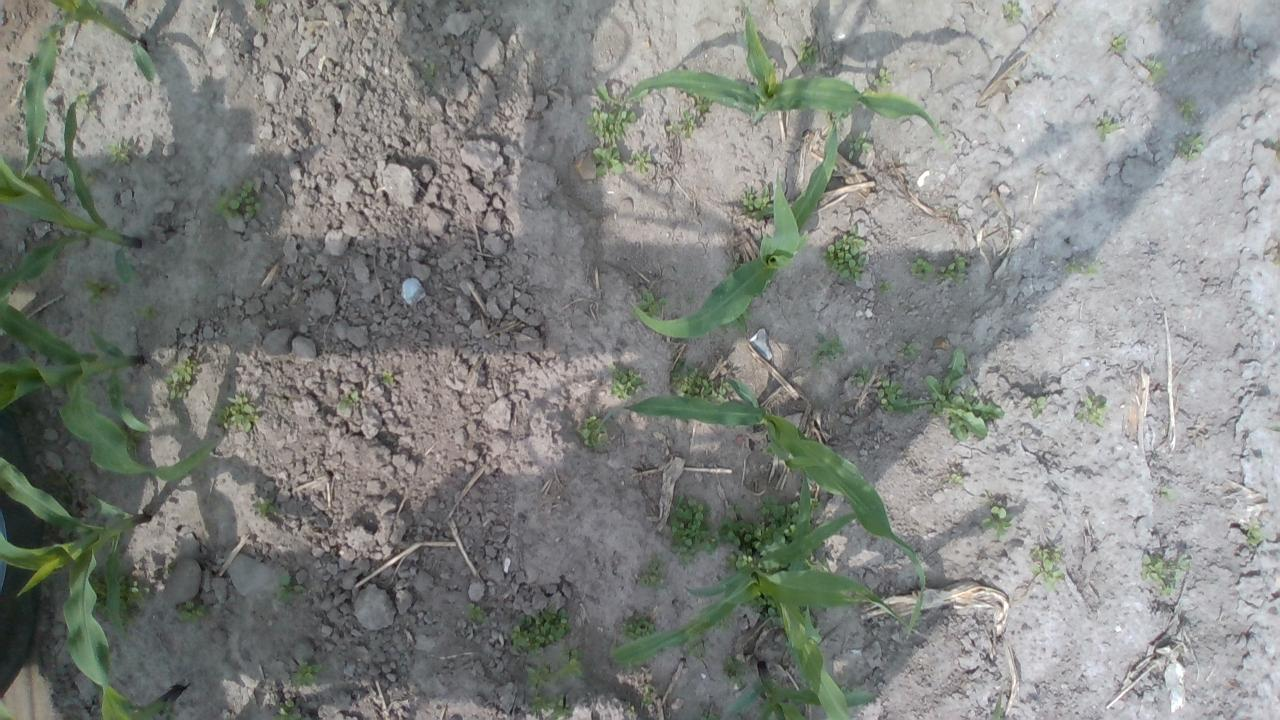Maize: (620, 376, 928, 642), (608, 462, 935, 668), (610, 2, 946, 154), (628, 105, 840, 340), (0, 300, 218, 483), (0, 458, 155, 693), (0, 90, 144, 314), (19, 1, 158, 183), (720, 659, 880, 720), (99, 676, 192, 714)
Weeds: (900, 344, 1007, 444), (719, 490, 828, 577), (589, 82, 636, 178), (663, 494, 721, 567), (514, 652, 586, 710), (664, 357, 740, 408), (508, 604, 570, 654), (826, 224, 872, 283), (847, 366, 898, 418), (1142, 550, 1192, 596), (101, 583, 150, 629), (209, 180, 259, 222), (212, 392, 258, 434), (1030, 541, 1065, 588), (632, 552, 668, 594), (614, 619, 660, 650), (574, 414, 610, 452), (607, 364, 645, 400), (633, 286, 671, 322), (739, 188, 780, 221), (163, 360, 194, 402), (1071, 392, 1107, 428), (274, 570, 308, 605), (982, 502, 1014, 538), (936, 252, 968, 288), (809, 334, 846, 364), (168, 601, 204, 628), (844, 130, 872, 159), (1173, 95, 1200, 124), (667, 110, 696, 136), (77, 282, 106, 308), (1140, 55, 1166, 83), (292, 662, 320, 688), (100, 140, 127, 166), (1092, 114, 1120, 139), (1176, 136, 1202, 160), (910, 258, 934, 282), (1238, 524, 1262, 548), (800, 38, 820, 66), (339, 389, 362, 412), (73, 92, 99, 112), (871, 66, 894, 88), (465, 604, 488, 626), (1028, 395, 1048, 420), (1001, 1, 1022, 24), (626, 150, 650, 170), (1068, 262, 1100, 276), (685, 632, 705, 654), (1108, 34, 1128, 56), (724, 659, 744, 680), (375, 372, 397, 389), (138, 303, 160, 315), (1154, 490, 1174, 502), (874, 281, 893, 293)
